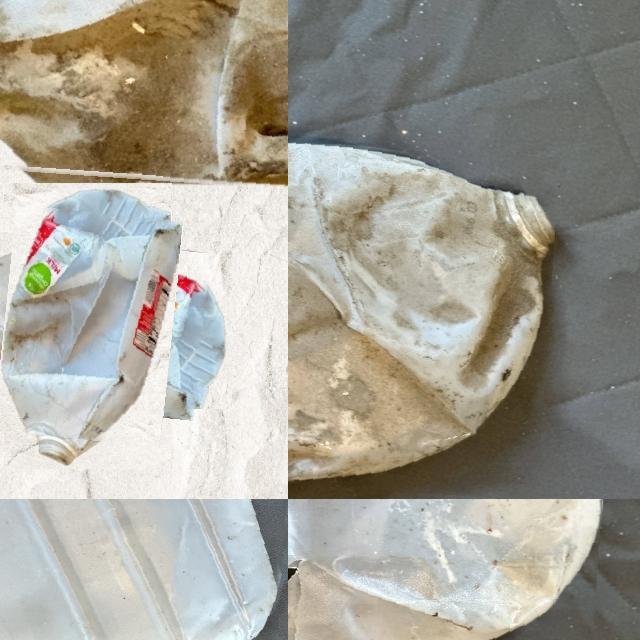milk-jug: (288, 130, 554, 491), (0, 0, 288, 196), (0, 205, 207, 443), (288, 499, 610, 640), (0, 499, 288, 640)
